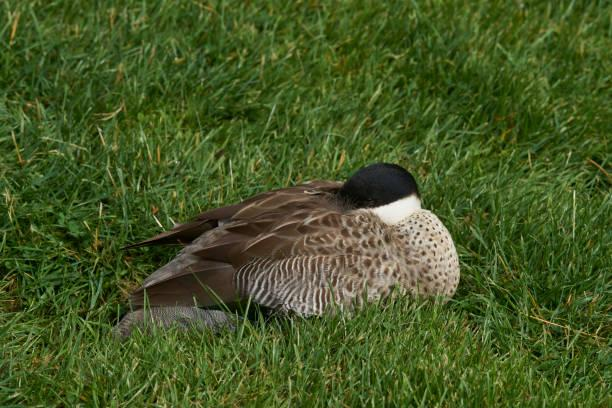Canadian-Goose: (114, 159, 474, 327)
